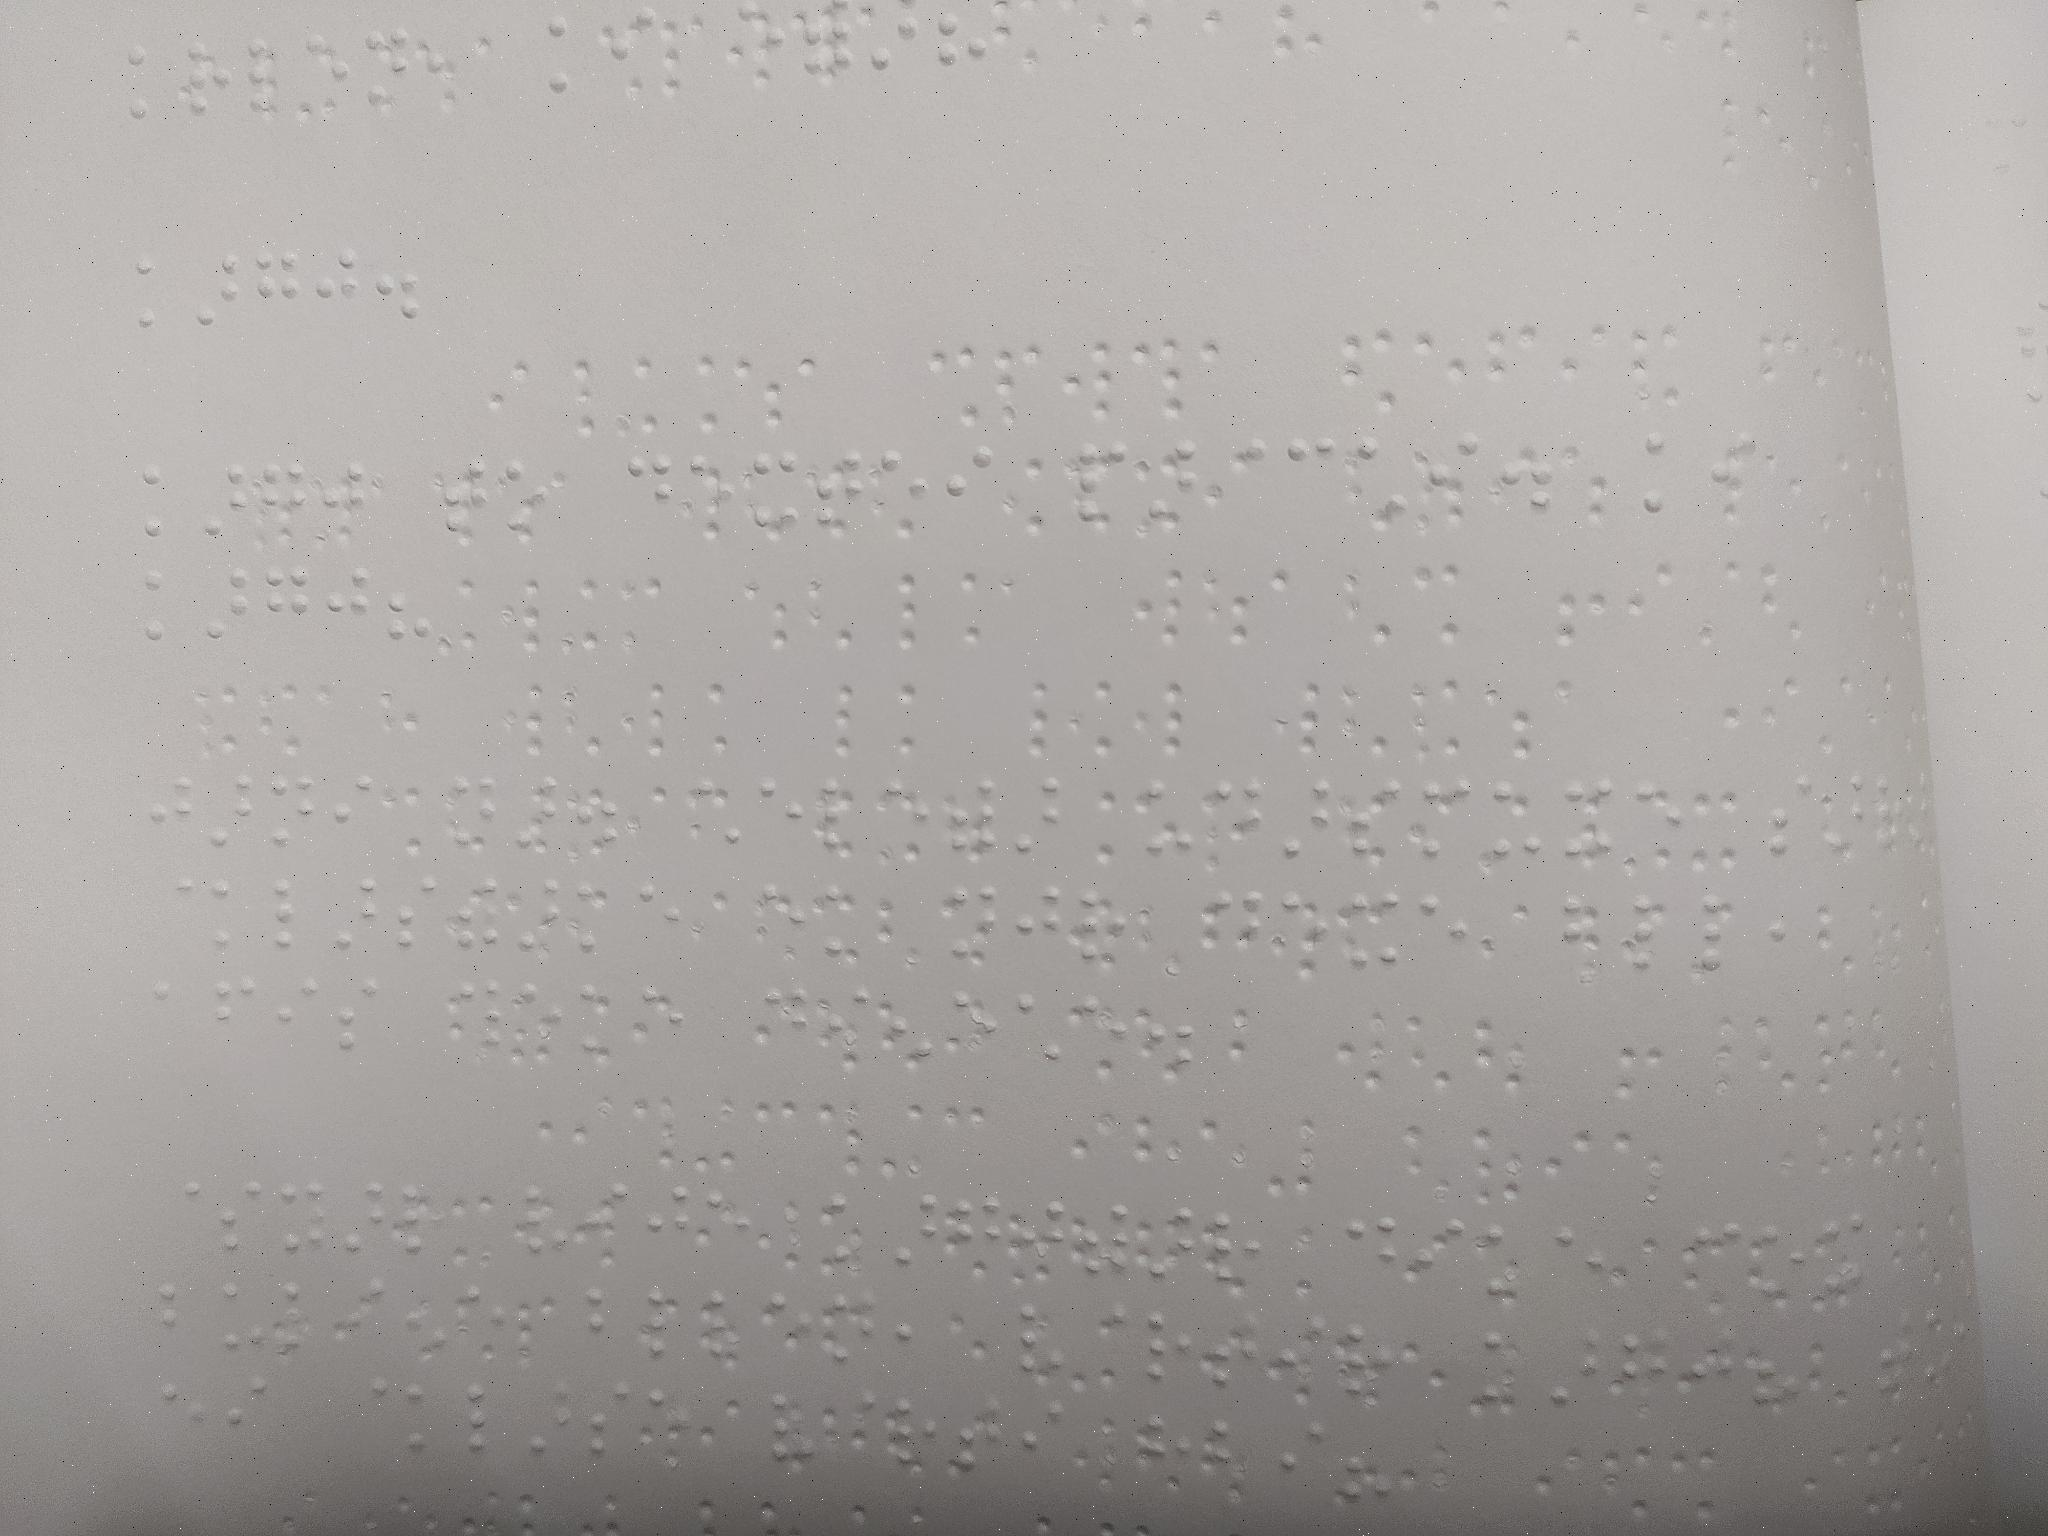a: (1276, 772, 1340, 867), (1550, 1320, 1608, 1414), (206, 770, 264, 862), (515, 766, 573, 858), (1149, 436, 1205, 530), (520, 1374, 578, 1464), (198, 460, 254, 552), (336, 1172, 390, 1264), (326, 870, 384, 954), (511, 868, 569, 952), (1144, 1200, 1202, 1284), (200, 559, 254, 649), (1013, 769, 1069, 855), (196, 248, 248, 340), (1824, 762, 1870, 858), (866, 0, 924, 76), (890, 1190, 946, 1268), (1906, 768, 1934, 860)
aw: (149, 976, 203, 1058)
b: (152, 1274, 214, 1358), (1557, 886, 1615, 970), (578, 1277, 636, 1357), (1206, 1404, 1258, 1484)
bh: (1012, 1291, 1082, 1381), (771, 1378, 825, 1474), (520, 1176, 580, 1260)
ch: (1214, 428, 1308, 526), (1307, 429, 1383, 515), (1688, 1218, 1750, 1298), (1372, 515, 1394, 517)
chh: (687, 772, 757, 858), (1012, 988, 1074, 1068)
d: (1208, 770, 1272, 860), (619, 446, 687, 526), (1208, 884, 1270, 968), (758, 980, 820, 1056), (1344, 1211, 1400, 1287)
e: (152, 1368, 220, 1454), (296, 32, 364, 112), (762, 1275, 822, 1365), (750, 867, 810, 955), (452, 1276, 514, 1360), (730, 0, 796, 76), (1546, 1220, 1610, 1298), (1630, 772, 1686, 858), (628, 866, 684, 952), (1276, 880, 1332, 966), (1416, 886, 1476, 966), (1074, 987, 1134, 1065), (636, 975, 694, 1054), (878, 772, 934, 852), (512, 974, 568, 1054), (875, 447, 935, 521), (643, 1378, 695, 1462), (758, 771, 810, 854), (948, 987, 1004, 1061), (702, 1180, 756, 1250), (690, 444, 736, 516)
g: (252, 552, 316, 646), (248, 249, 312, 332), (1616, 1319, 1676, 1407), (256, 461, 314, 543), (952, 1190, 1010, 1266)
h: (1133, 1402, 1197, 1486)
i: (1704, 426, 1770, 522), (600, 0, 662, 96), (1388, 449, 1452, 539), (1411, 1210, 1475, 1292), (218, 1366, 278, 1452), (1268, 1410, 1330, 1492), (332, 1270, 394, 1350), (1275, 1300, 1331, 1386), (270, 974, 326, 1052), (326, 770, 382, 846), (824, 978, 880, 1054), (580, 1176, 632, 1256), (1017, 1393, 1067, 1473), (936, 444, 994, 512), (1955, 1305, 1991, 1399)
j: (1686, 1321, 1744, 1413), (318, 552, 378, 640), (1016, 1191, 1076, 1277), (1014, 874, 1068, 966), (273, 1173, 333, 1255), (312, 243, 370, 325), (144, 768, 202, 848), (318, 460, 378, 536), (640, 1178, 696, 1256)
k: (121, 34, 181, 134), (1640, 426, 1700, 524), (1479, 1215, 1545, 1303), (1478, 1320, 1538, 1410), (139, 562, 197, 646), (816, 870, 870, 960), (136, 462, 192, 546), (130, 248, 184, 334), (822, 1191, 880, 1269), (576, 975, 628, 1058), (200, 873, 256, 950), (546, 12, 598, 94), (400, 1374, 450, 1458), (575, 866, 621, 954)
kh: (1339, 886, 1413, 978), (1556, 776, 1624, 870), (742, 448, 806, 530), (1812, 1214, 1870, 1300)
l: (236, 34, 294, 136), (700, 1278, 758, 1370), (456, 1374, 512, 1464), (809, 771, 867, 857), (1623, 890, 1681, 974), (1690, 888, 1748, 972), (640, 1284, 694, 1372), (265, 874, 323, 954), (278, 1272, 328, 1360)
m: (1415, 777, 1475, 867)
n: (262, 764, 324, 860), (361, 29, 421, 125), (450, 768, 508, 862), (949, 876, 1007, 970), (824, 1288, 880, 1364)
o: (500, 454, 552, 538), (1758, 1219, 1806, 1307)
p: (1074, 440, 1138, 530)
ph: (208, 972, 264, 1056)
r: (1202, 1204, 1268, 1290), (1344, 1312, 1402, 1408), (884, 1391, 948, 1477), (1076, 880, 1134, 968), (184, 32, 236, 124), (1140, 1308, 1198, 1384), (400, 1178, 450, 1258), (1868, 771, 1910, 863)
s: (1342, 776, 1408, 868), (214, 1172, 272, 1260), (1762, 767, 1818, 855), (390, 867, 442, 959), (585, 1372, 635, 1464), (333, 980, 391, 1056)
t: (1204, 1302, 1270, 1394), (940, 770, 1008, 858), (448, 866, 512, 952), (439, 455, 499, 545), (810, 445, 870, 530), (802, 0, 862, 84), (1870, 1302, 1918, 1404), (1082, 1193, 1138, 1277), (955, 1389, 1007, 1475)
th: (452, 970, 514, 1058)
u: (1142, 772, 1202, 858), (1488, 774, 1548, 860), (215, 1276, 271, 1362), (1919, 1302, 1953, 1400)
y: (402, 1276, 454, 1368), (882, 988, 946, 1062)
